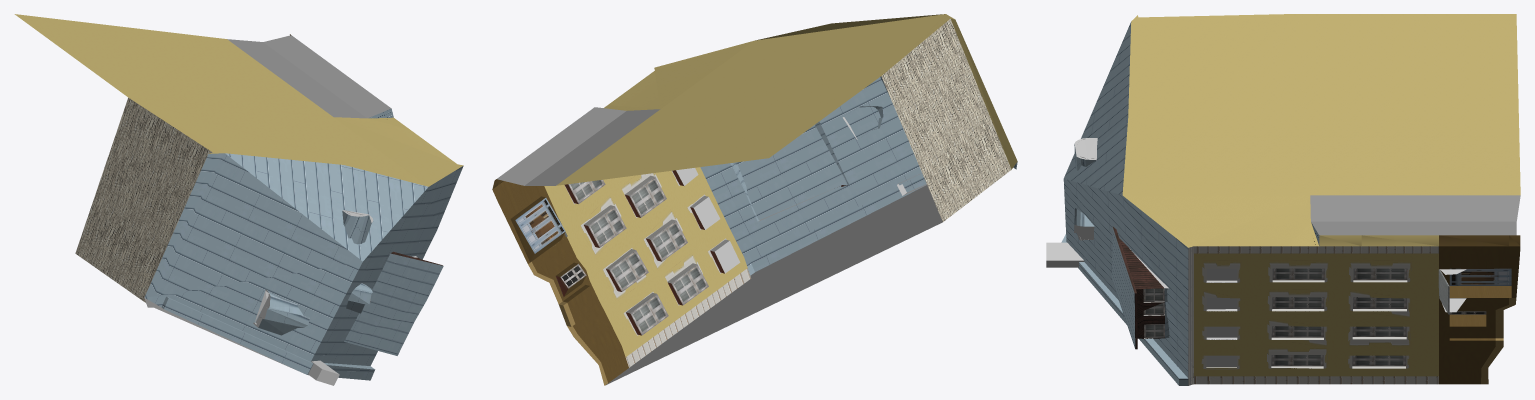
The model's file is Lyhike_jalg_6-origo.obj.
The picture shows the model from 3 angles, left to right: view 1: azimuth 30°, elevation 25°; view 2: azimuth 150°, elevation 25°; view 3: azimuth 270°, elevation 25°; orthographic projection.
Visible parts, largest first — view 1: Lyhike_Jalg_6; view 2: Lyhike_Jalg_6; view 3: Lyhike_Jalg_6.
Boxes of the visible parts, box(x1,y1,x2,y2) form: Lyhike_Jalg_6: box(14, 14, 463, 385); Lyhike_Jalg_6: box(492, 14, 1017, 385); Lyhike_Jalg_6: box(1046, 14, 1520, 385).
Bounding box in the file's own units: 18.25 × 14.5 × 22.05.
